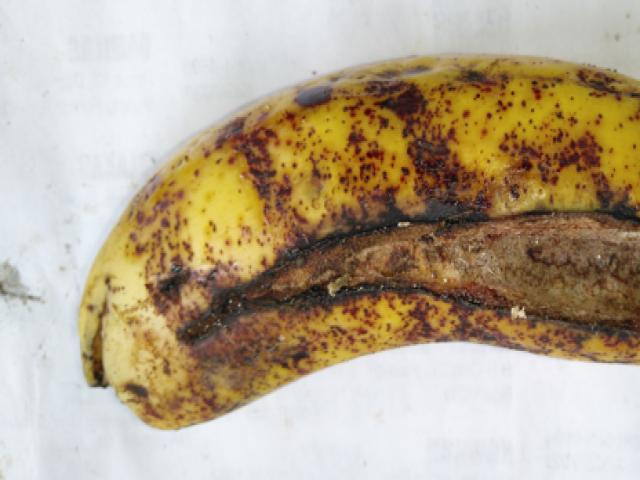rotten: (214, 155, 639, 372)
